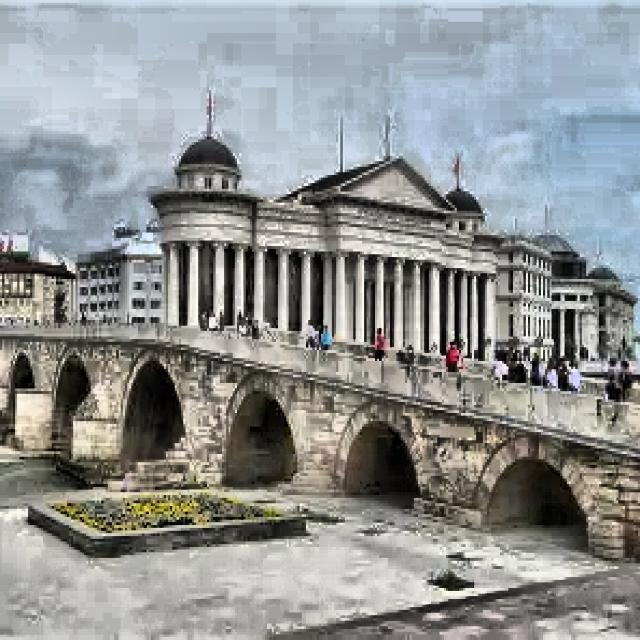stone bridge: (0, 314, 640, 557)
